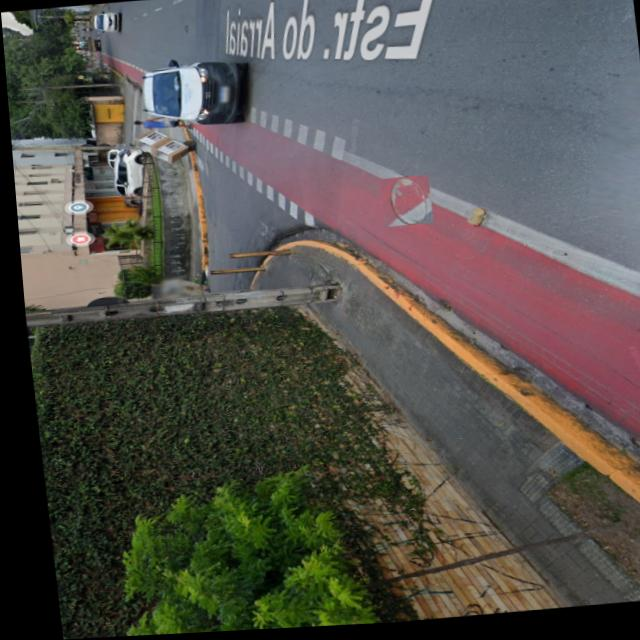Bueiro: (375, 178, 429, 230)
